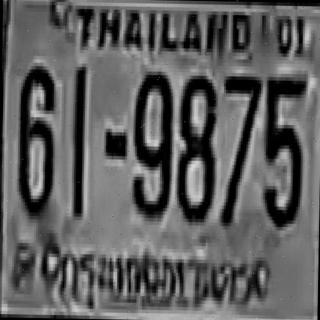N01: (70, 65, 84, 215)
N05: (262, 70, 303, 224)
N06: (16, 62, 54, 216)
N07: (220, 73, 259, 223)
N08: (175, 72, 214, 219)
N09: (130, 68, 171, 218)
P04: (56, 237, 254, 314)
